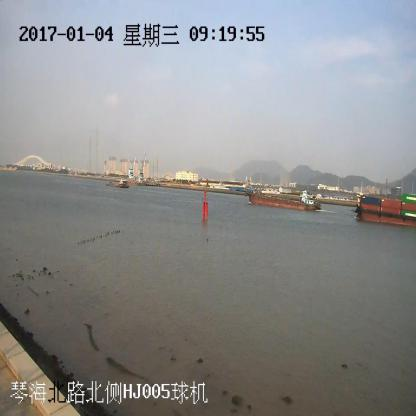Container Ship: (353, 193, 416, 226)
